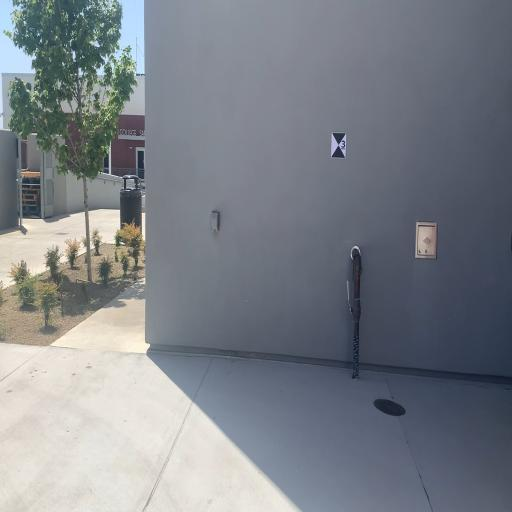target3: (330, 131, 346, 159)
